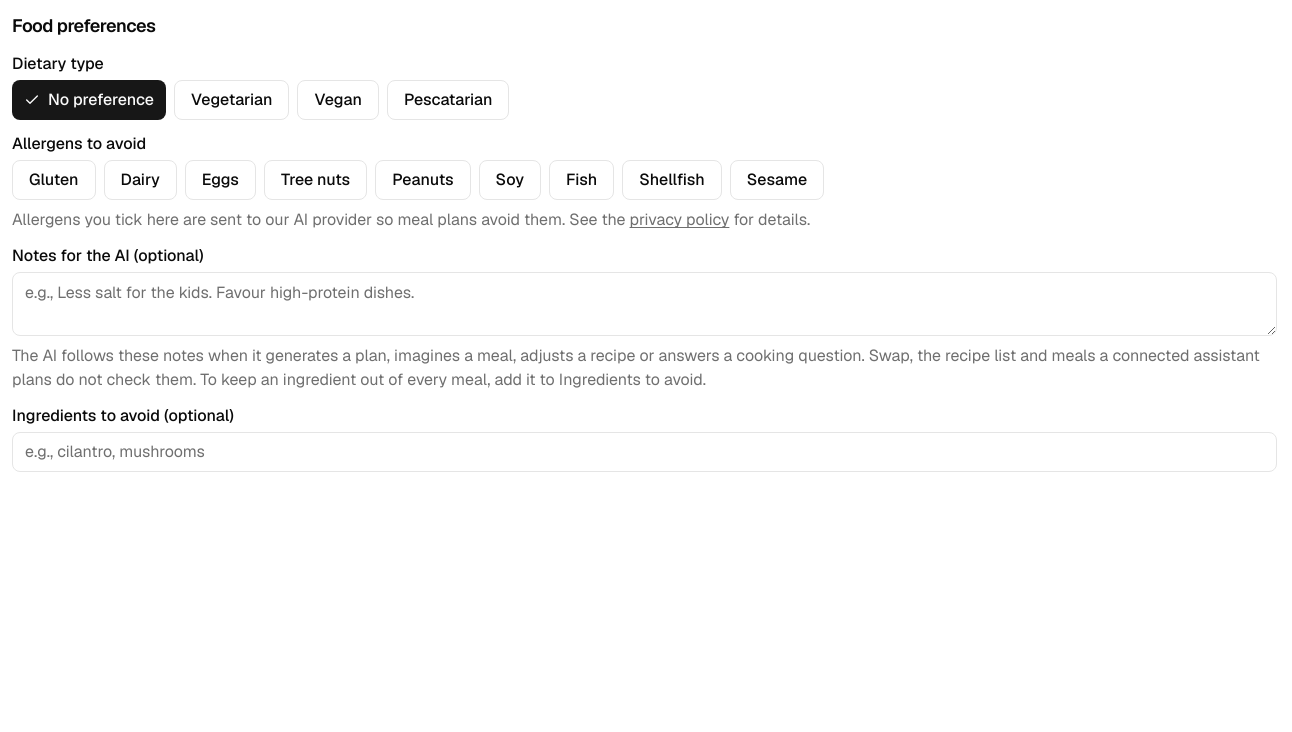
it: FoodPreferencesForm field help › what each ingredient to avoid excludes › shows the matches the save answers for a new tag
Step 1. Type "pork" into the field labelled "Ingredients to avoid (optional)" → [644, 452], box [25,439,1264,465]
Then press Enter
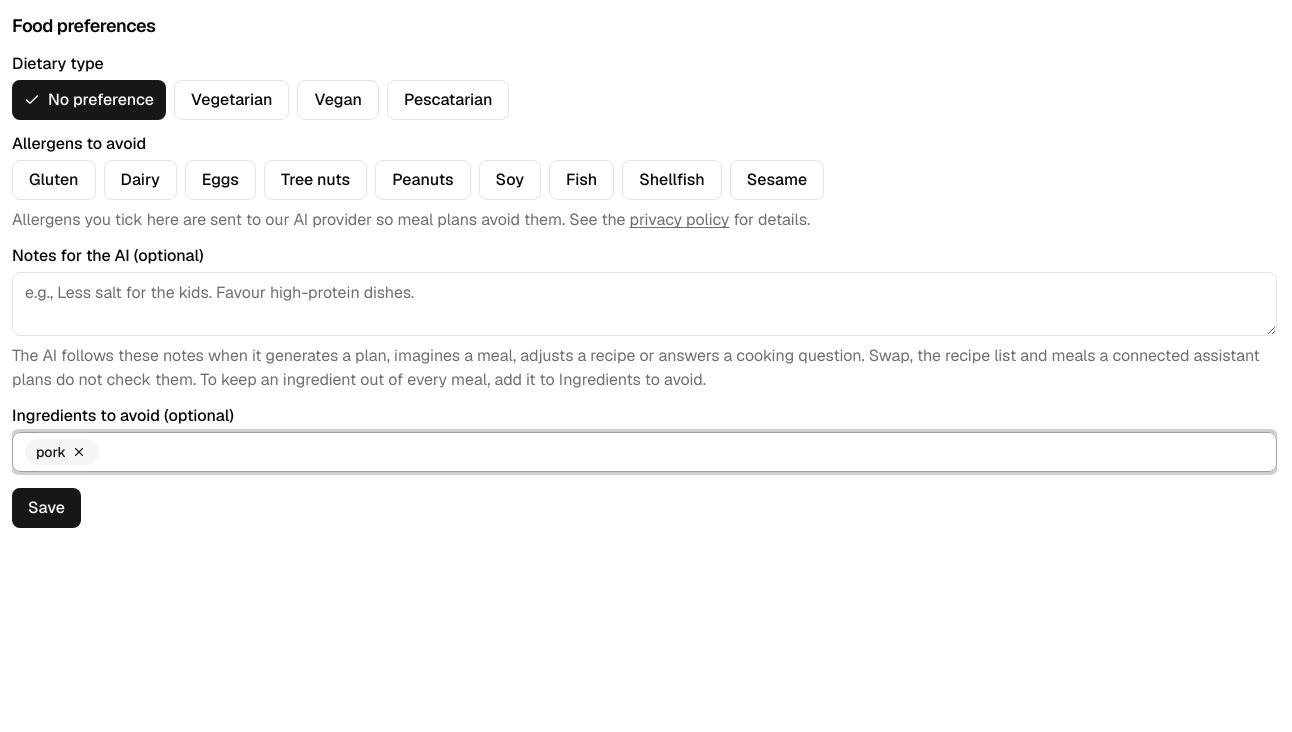
Step 2. Click the button "Save" → [46, 508], box [12,488,81,528]
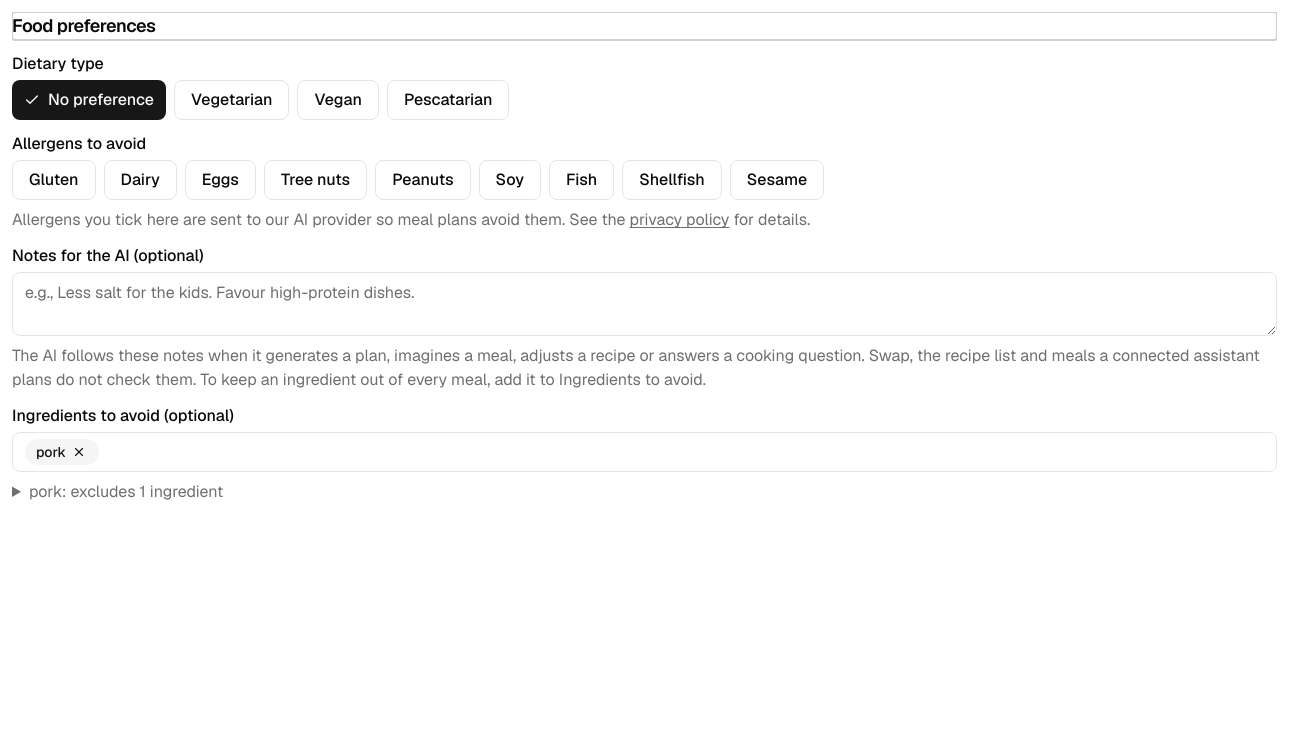
Expected: the heading "pork: excludes 1 ingredient" is shown, [29,481,223,502]
